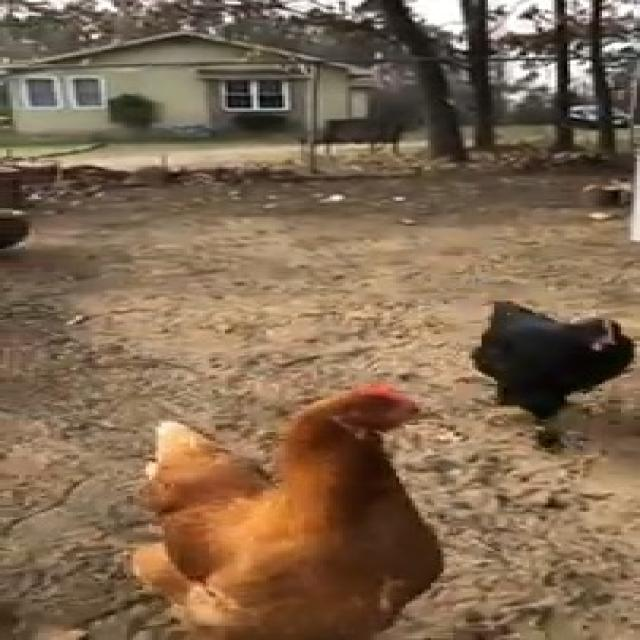running: (130, 350, 481, 636), (465, 291, 640, 458)
